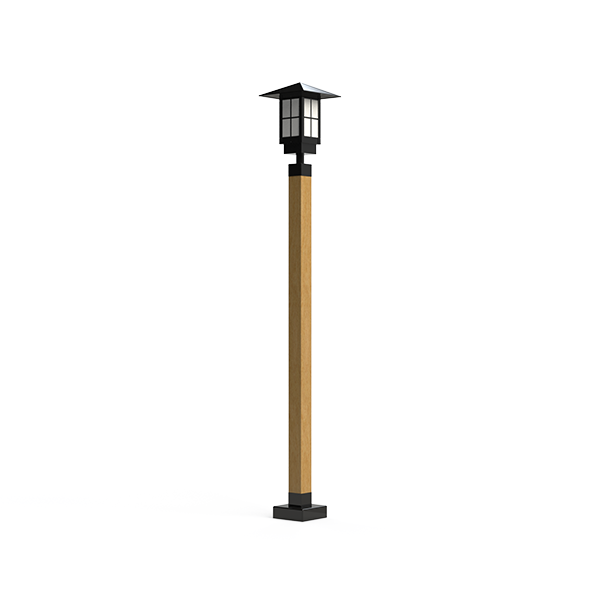light_pole: (273, 72, 332, 530)
